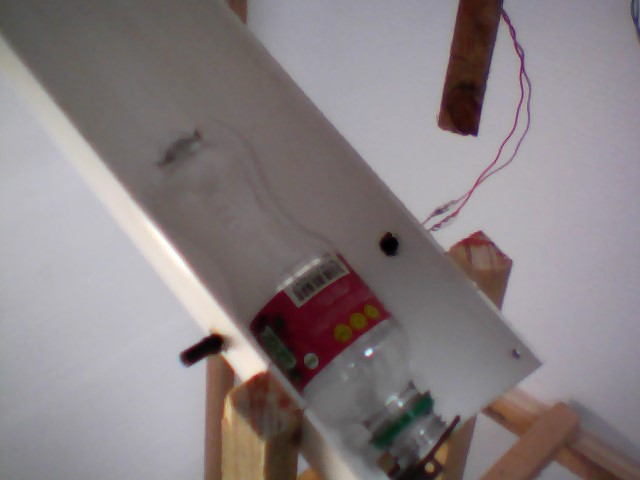plastico: (130, 110, 459, 462)
